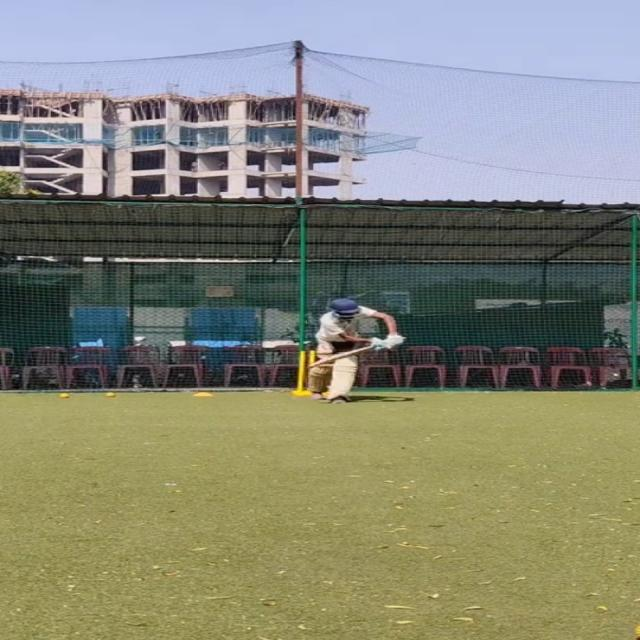ball: (55, 392, 71, 399), (102, 391, 115, 398)
stump: (293, 350, 314, 394)
